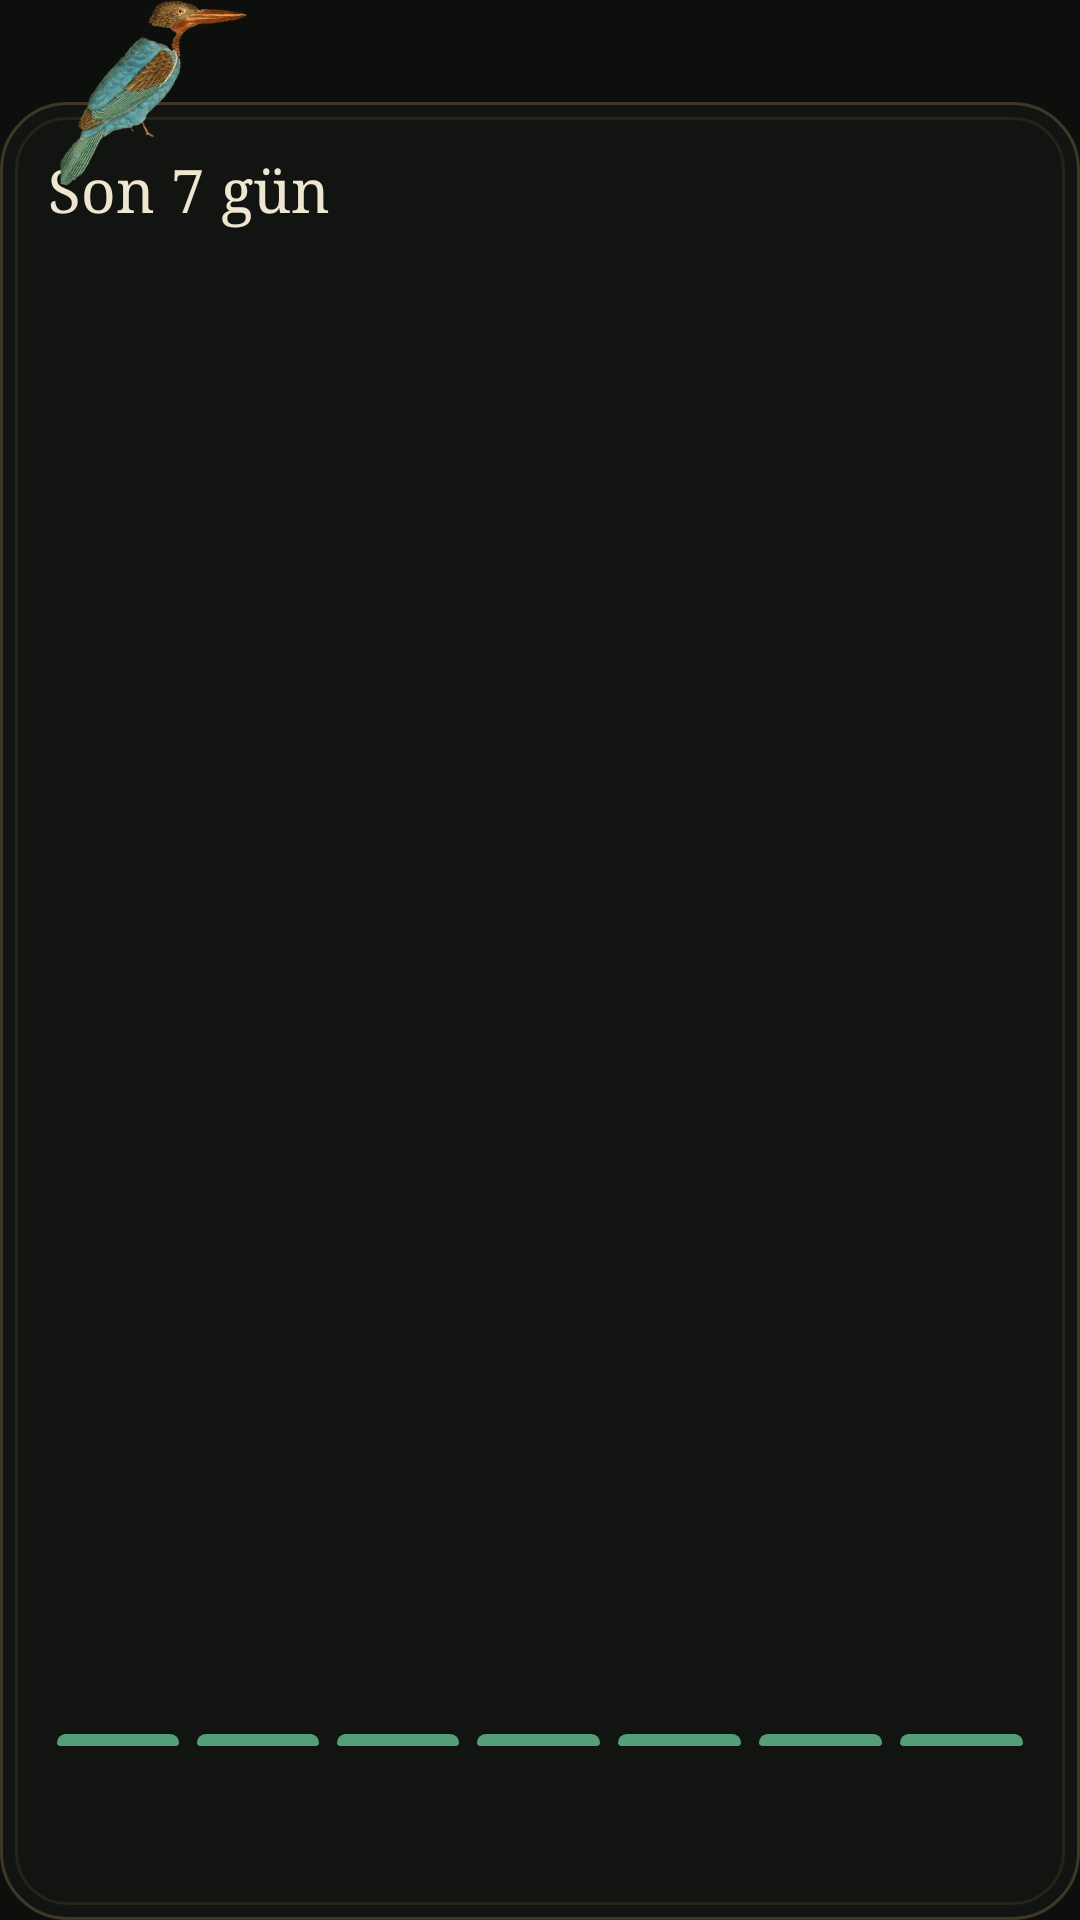

Where icons sit on this 1080*1920 app screen, as (x1, y1, x2, y2):
kingfisher: (60, 1, 247, 186)
